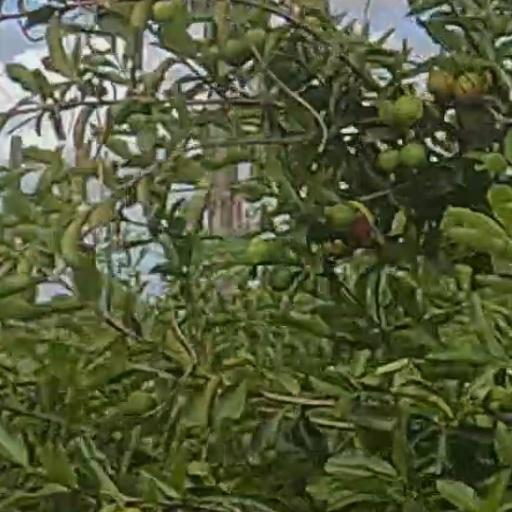acerola_verde: (405, 145, 426, 168), (378, 148, 398, 170), (331, 207, 347, 231)
acerola_vermelha: (454, 72, 481, 106), (429, 68, 449, 101), (351, 219, 367, 245)
